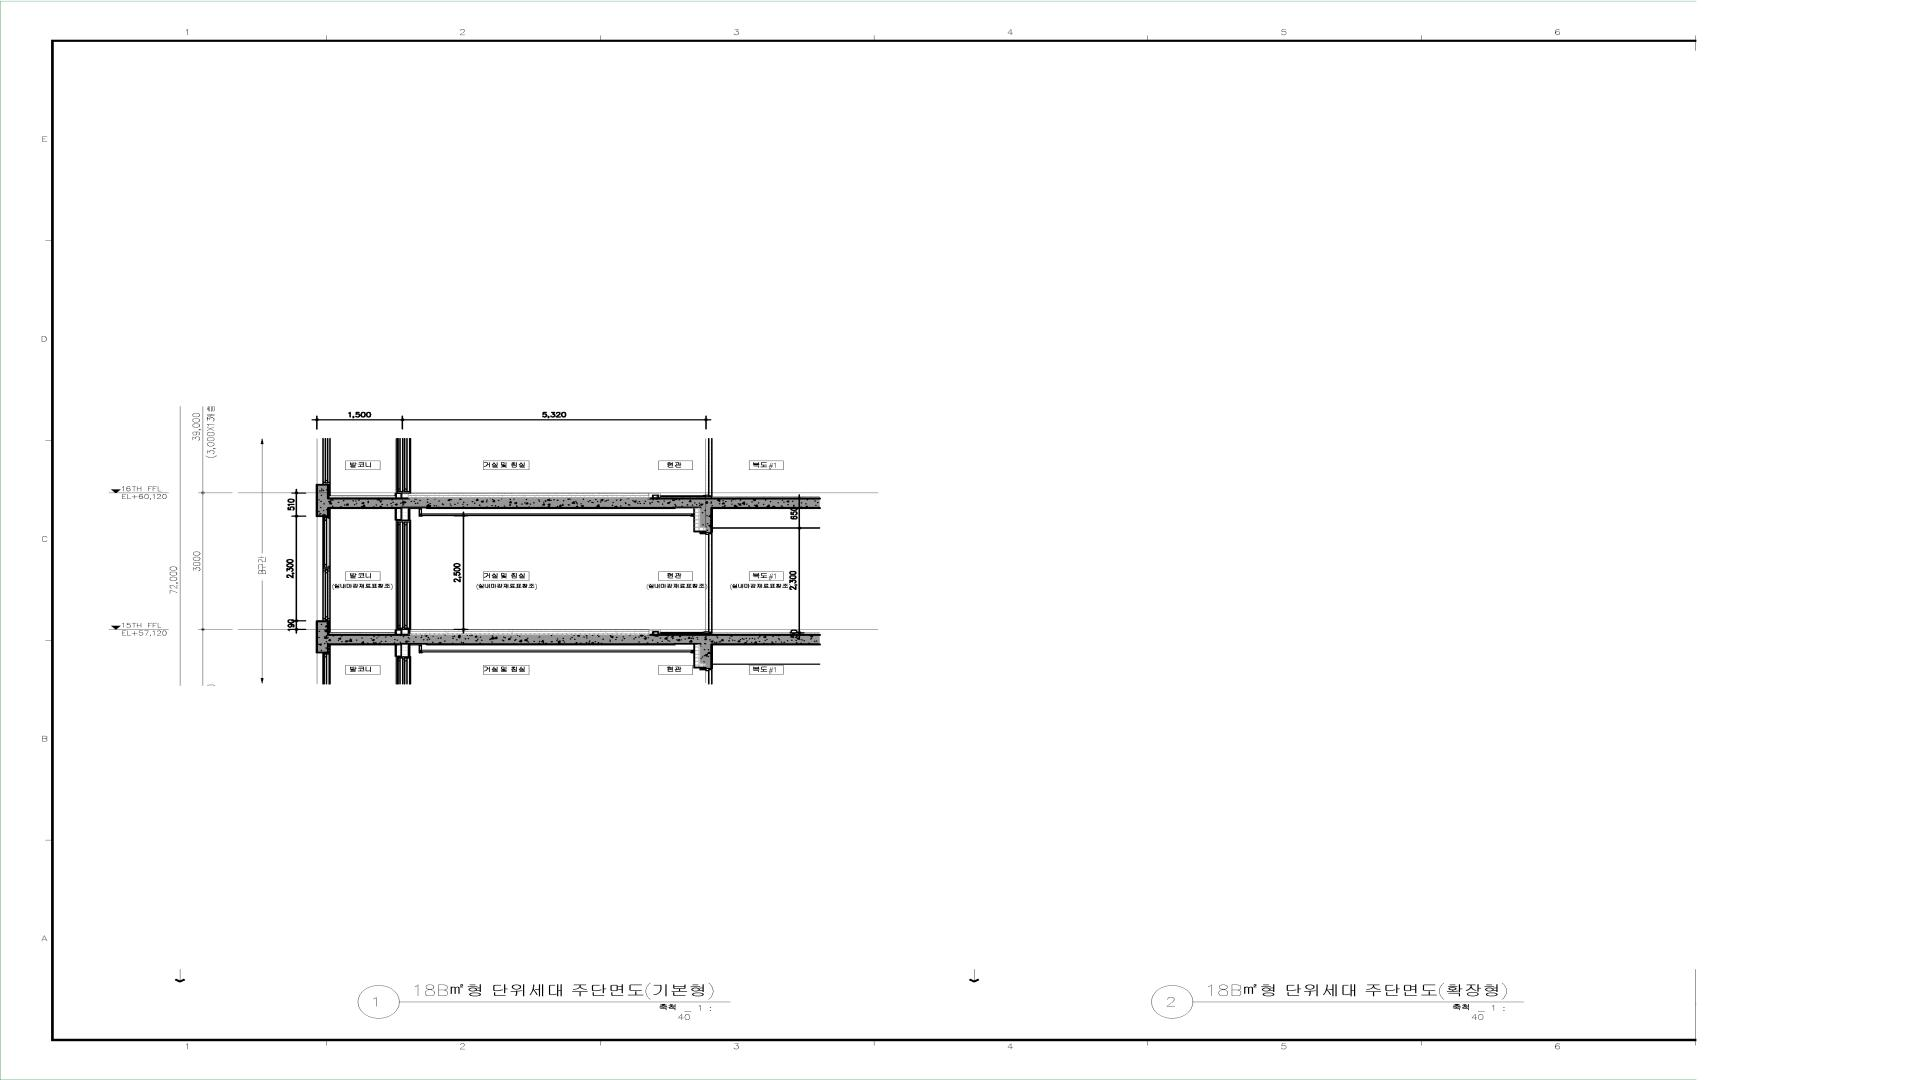door: (706, 532, 713, 634)
wall: (316, 498, 820, 532), (316, 621, 820, 645), (395, 509, 402, 520), (395, 630, 402, 634)
window: (395, 520, 411, 630), (317, 517, 331, 621)
